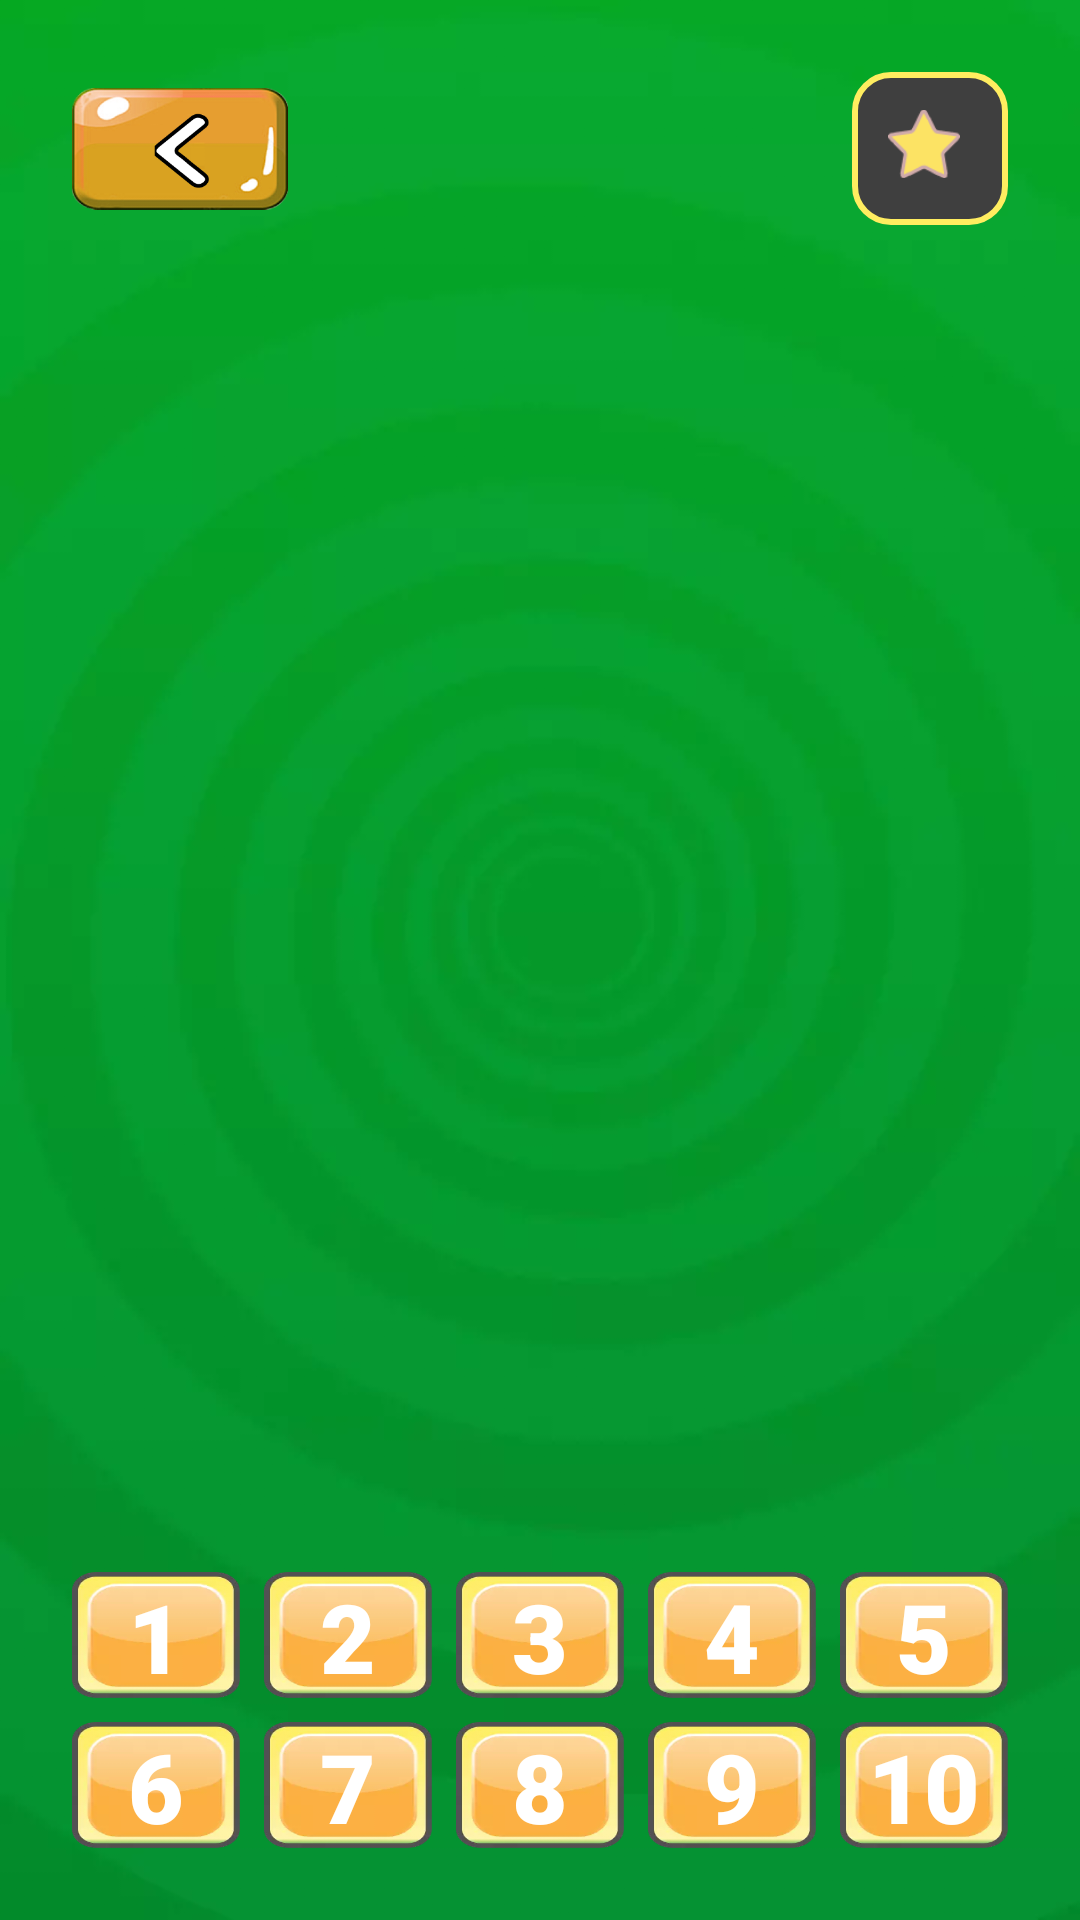

Icons on this 1080×1920 Android screen, each with the point to tap as point (x, y):
back: point (180, 149)
star: point (924, 144)
